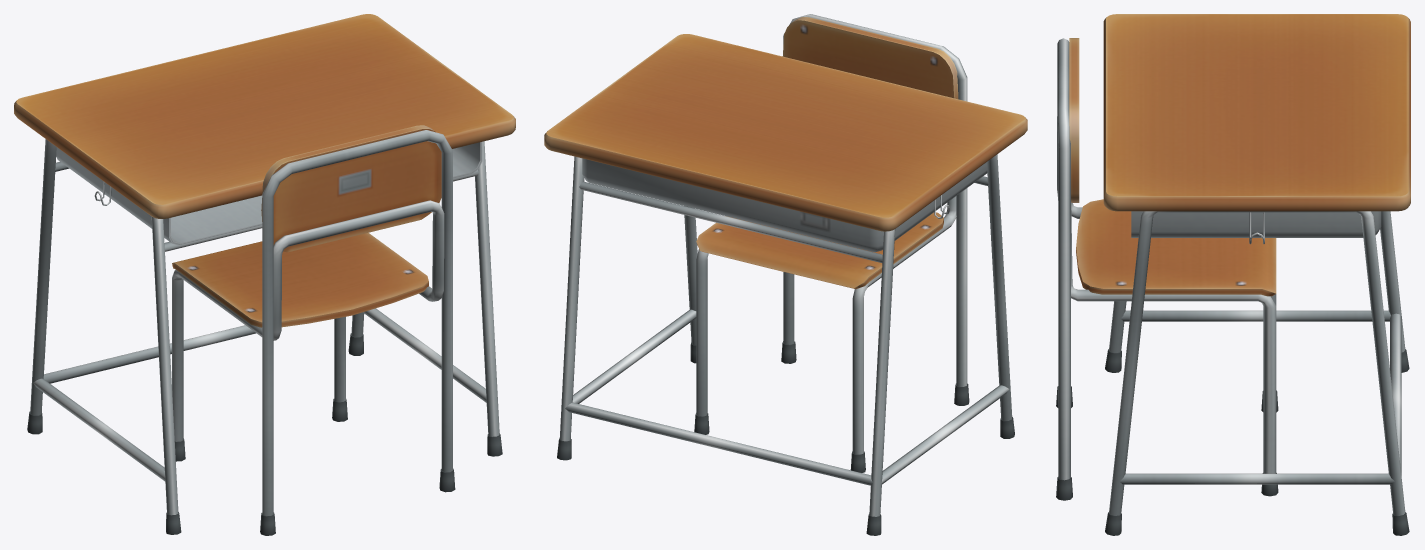
Rendered from School_desk_chair_01_M.fbx.
3 renders of one model, left to right at view 1: azimuth 30°, elevation 25°; view 2: azimuth 150°, elevation 25°; view 3: azimuth 270°, elevation 25°, orthographic. The views are drawn at different scales.
Visible parts, largest first — view 1: school_desk, school_chair; view 2: school_desk, school_chair; view 3: school_desk, school_chair.
Part boxes in pixels (x1=…): school_desk: x1=14, y1=14, x2=515, y2=534; school_chair: x1=172, y1=125, x2=455, y2=535; school_desk: x1=544, y1=34, x2=1027, y2=535; school_chair: x1=694, y1=14, x2=969, y2=472; school_desk: x1=1103, y1=14, x2=1410, y2=535; school_chair: x1=1056, y1=38, x2=1278, y2=500.
Bounding box in the file's own units: 80 × 76.53 × 64.98.
